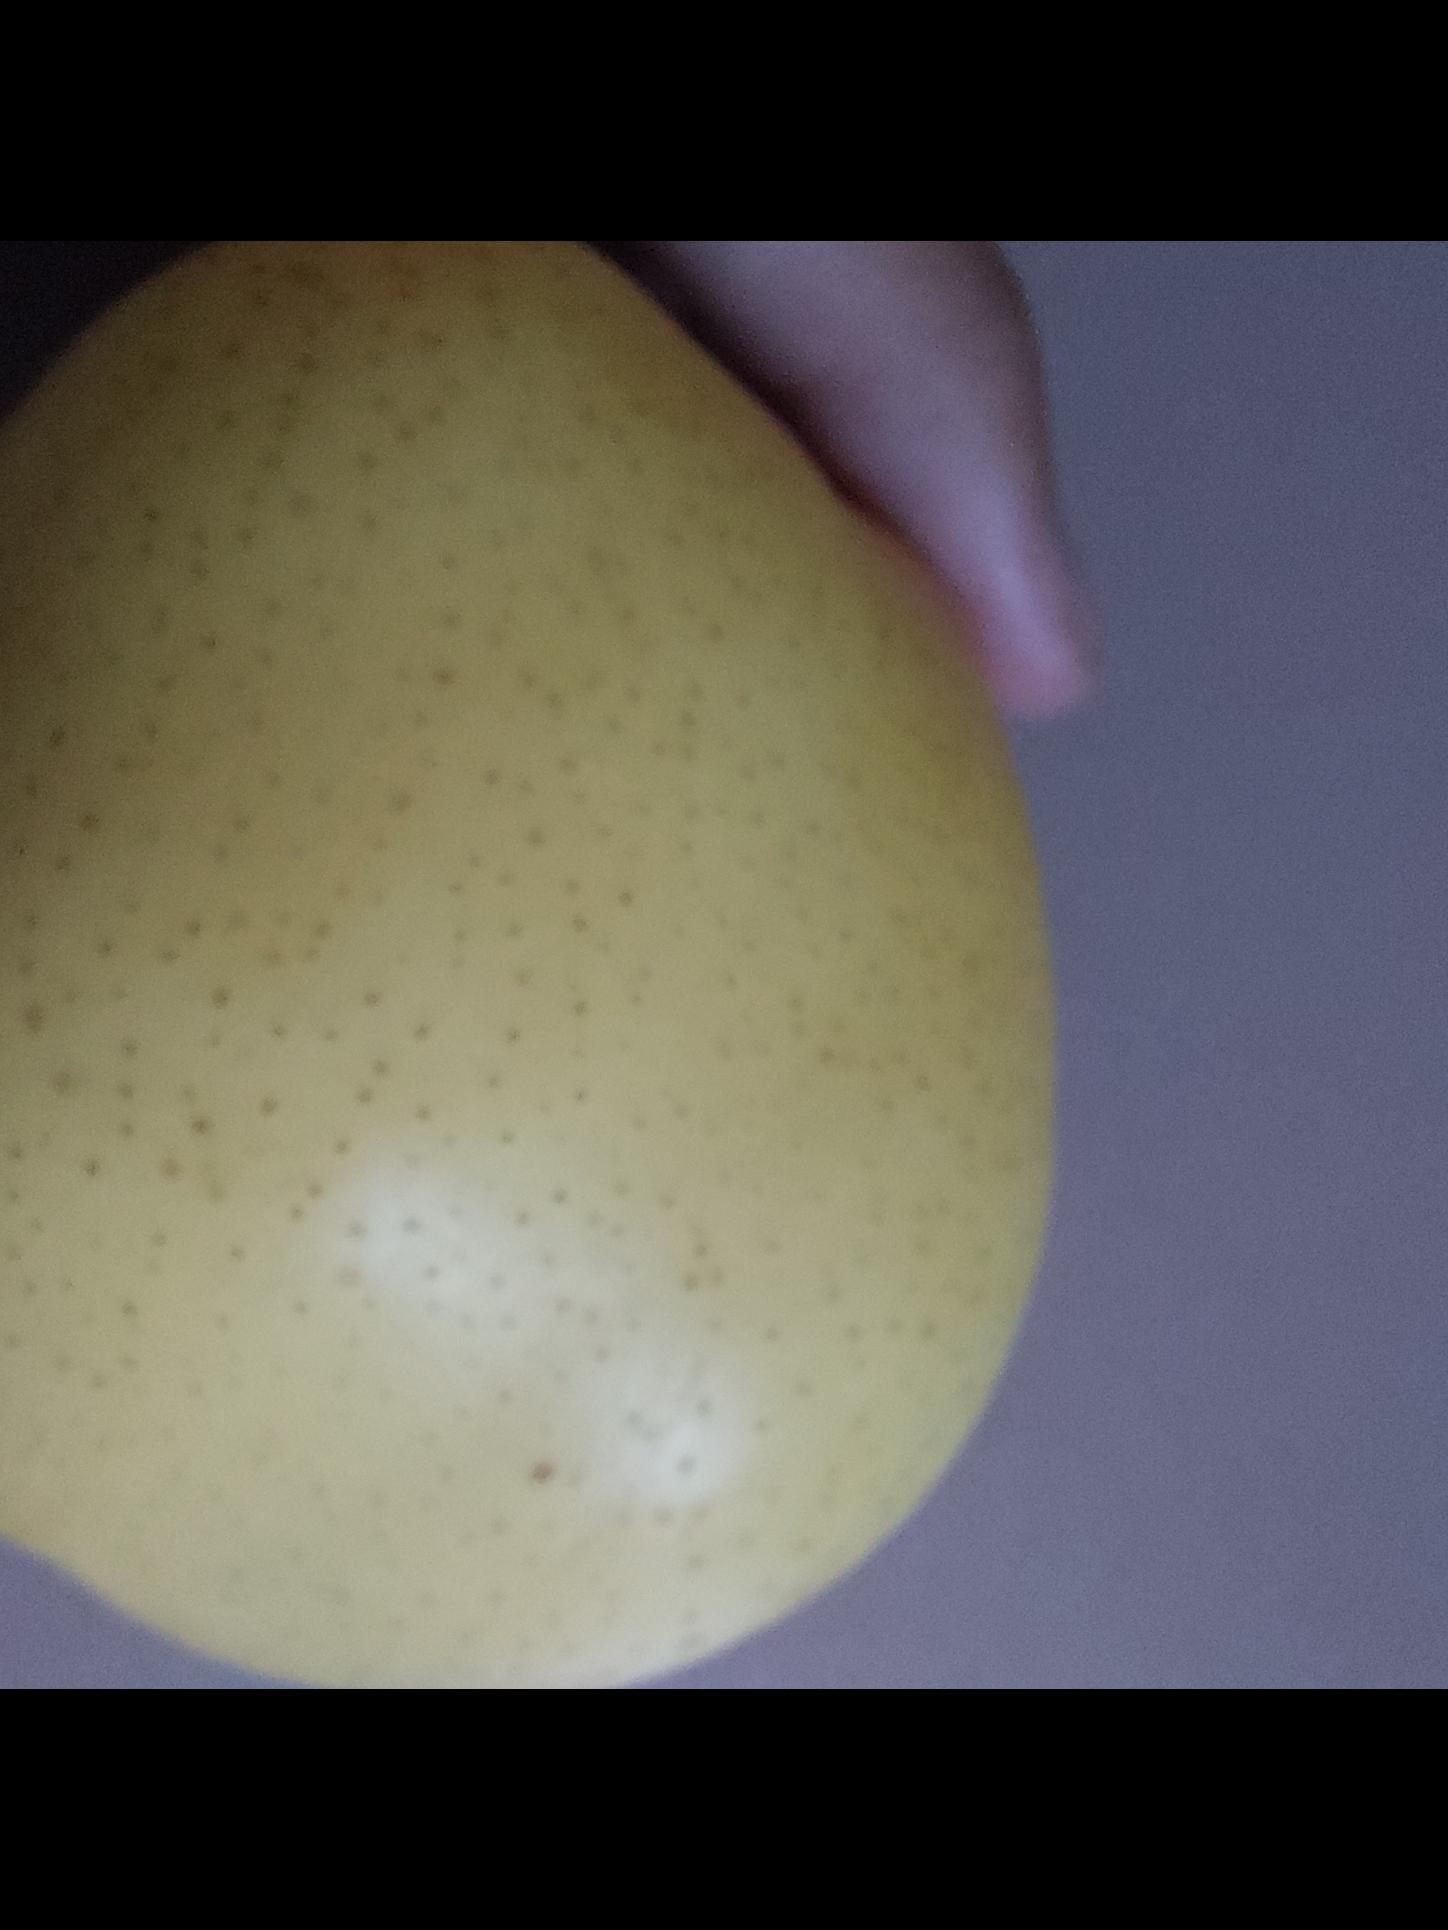Good Pear: (0, 240, 1042, 1690)
